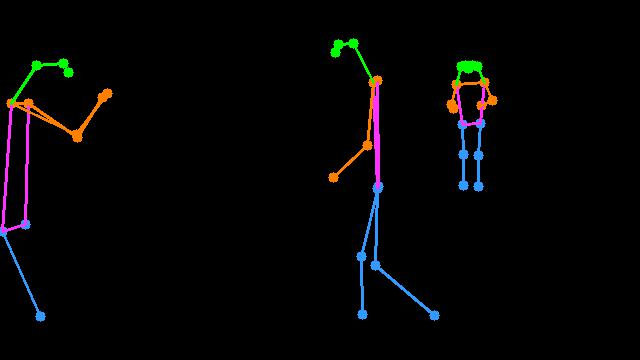normal: (307, 26, 445, 334), (443, 53, 501, 201)
